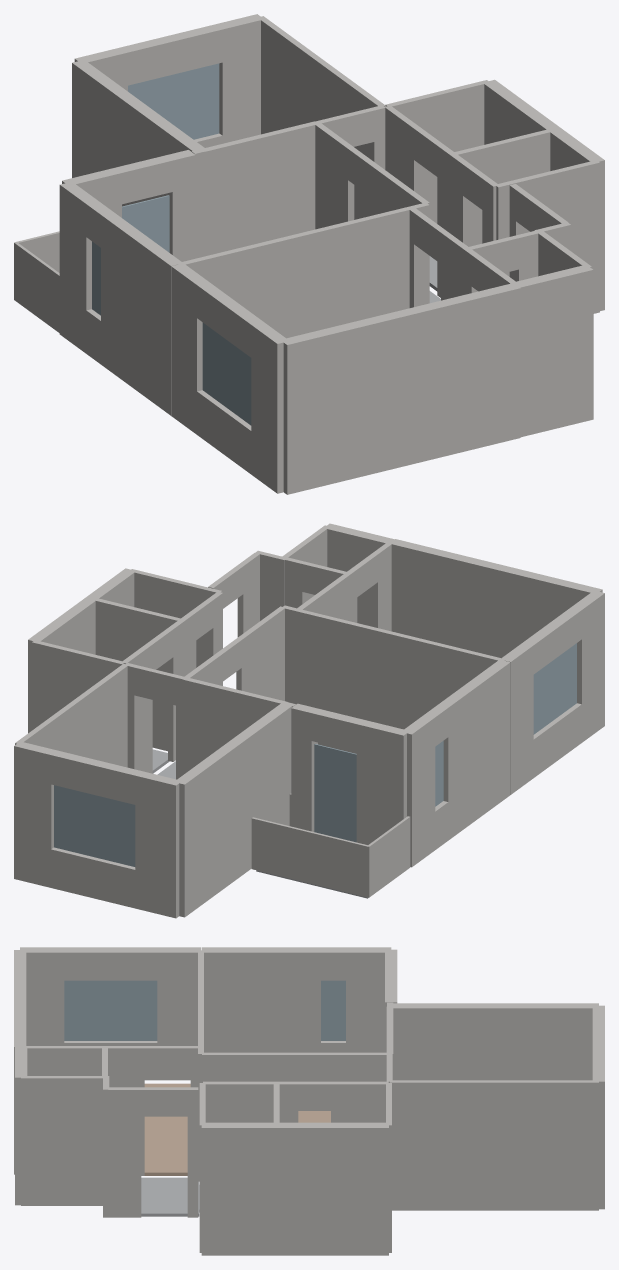
The model's file is kvartira-planirovka.glb.
3 views of the same model, one above another, from view 1: azimuth 30°, elevation 25°; view 2: azimuth 150°, elevation 25°; view 3: azimuth 270°, elevation 25° (orthographic). The views are drawn at different scales.
Parts seen in each view (by area): view 1: wall_w_l_s_166_612_0.0, wall_w_dividing_168_644_0.0, wall_w_top_s_426_660_0.0, wall_w_closet_s_612_752_0.0, wall_w_k_w_559_791_0.0, wall_w_top_w_20_423_0.0, wall_w_top_e_20_425_0.0, wall_w_wc_s_777_971_0.0, wall_w_l_w_1057_1143_0.0, wall_w_top_n_691_771_0.0, wall_w_bath_n_777_971_0.0, wall_w_k_w_423_511_0.0 (+36 smaller); view 2: wall_w_dividing_168_644_0.0, wall_w_l_s_166_612_0.0, wall_w_top_w_20_423_0.0, wall_w_k_w_559_791_0.0, wall_w_top_n_422_510_0.0, wall_w_log_n_159_409_0.0, wall_w_top_e_20_425_0.0, wall_w_k_n1_165_266_0.0, wall_w_top_n_691_771_0.0, wall_w_top_n_510_691_0.8, wall_w_k_n2_408_643_0.0, wall_w_bath_n_777_971_0.0 (+39 smaller); view 3: wall_w_top_e_20_425_0.0, wall_w_bath_e_427_791_0.0, wall_w_top_w_20_423_0.0, wall_w_k_w_559_791_0.0, wall_w_closet_e_978_1141_0.0, wall_w_l_w_877_1057_0.8, wall_w_entry_e_908_972_0.0, wall_w_l_w_792_877_0.0, wall_w_k_w_423_511_0.0, wall_w_l_w_1057_1143_0.0, wall_w_l_w_877_1057_2.1, wall_w_k_e_625_790_0.0 (+26 smaller).
Boxes of the visible parts, bbox=[...] form: wall_w_l_s_166_612_0.0: bbox=[281, 283, 520, 494]; wall_w_dividing_168_644_0.0: bbox=[178, 202, 429, 338]; wall_w_top_s_426_660_0.0: bbox=[204, 119, 327, 256]; wall_w_closet_s_612_752_0.0: bbox=[516, 265, 593, 437]; wall_w_k_w_559_791_0.0: bbox=[101, 212, 182, 415]; wall_w_top_w_20_423_0.0: bbox=[72, 60, 204, 206]; wall_w_top_e_20_425_0.0: bbox=[258, 16, 385, 219]; wall_w_wc_s_777_971_0.0: bbox=[495, 161, 599, 313]; wall_w_l_w_1057_1143_0.0: bbox=[251, 322, 289, 493]; wall_w_top_n_691_771_0.0: bbox=[216, 14, 263, 143]; wall_w_bath_n_777_971_0.0: bbox=[385, 80, 489, 223]; wall_w_k_w_423_511_0.0: bbox=[59, 183, 98, 353]; wall_w_dividing_168_644_0.0: bbox=[282, 605, 505, 753]; wall_w_l_s_166_612_0.0: bbox=[390, 539, 602, 658]; wall_w_top_w_20_423_0.0: bbox=[174, 703, 292, 917]; wall_w_k_w_559_791_0.0: bbox=[437, 659, 510, 840]; wall_w_top_n_422_510_0.0: bbox=[135, 771, 181, 918]; wall_w_log_n_159_409_0.0: bbox=[251, 817, 368, 897]; wall_w_top_e_20_425_0.0: bbox=[15, 663, 127, 767]; wall_w_k_n1_165_266_0.0: bbox=[356, 719, 409, 844]; wall_w_top_n_691_771_0.0: bbox=[14, 742, 56, 887]; wall_w_top_n_510_691_0.8: bbox=[54, 785, 135, 866]; wall_w_k_n2_408_643_0.0: bbox=[183, 679, 295, 774]; wall_w_bath_n_777_971_0.0: bbox=[32, 641, 124, 730]; wall_w_top_e_20_425_0.0: bbox=[390, 1080, 598, 1210]; wall_w_bath_e_427_791_0.0: bbox=[201, 1122, 388, 1255]; wall_w_top_w_20_423_0.0: bbox=[391, 1003, 598, 1080]; wall_w_k_w_559_791_0.0: bbox=[201, 947, 320, 1052]; wall_w_closet_e_978_1141_0.0: bbox=[21, 1076, 104, 1205]; wall_w_l_w_877_1057_0.8: bbox=[64, 980, 157, 1040]; wall_w_entry_e_908_972_0.0: bbox=[108, 1087, 141, 1217]; wall_w_l_w_792_877_0.0: bbox=[157, 947, 200, 1080]; wall_w_k_w_423_511_0.0: bbox=[346, 947, 391, 1052]; wall_w_l_w_1057_1143_0.0: bbox=[20, 947, 64, 1075]; wall_w_l_w_877_1057_2.1: bbox=[64, 947, 157, 980]; wall_w_k_e_625_790_0.0: bbox=[202, 1052, 286, 1122].
Bounding box in the file's own units: 8.24 × 2.77 × 11.41.
